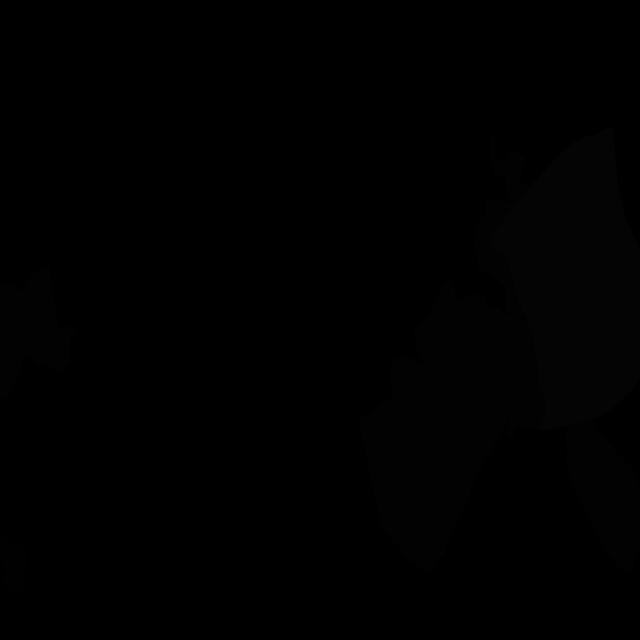cardboard: (359, 356, 510, 572), (413, 278, 538, 439), (564, 420, 640, 575), (474, 131, 532, 320), (0, 263, 76, 372), (0, 336, 22, 400), (517, 384, 546, 430)
rigid_plastic: (0, 532, 28, 595)
soft_plastic: (491, 128, 640, 430)
